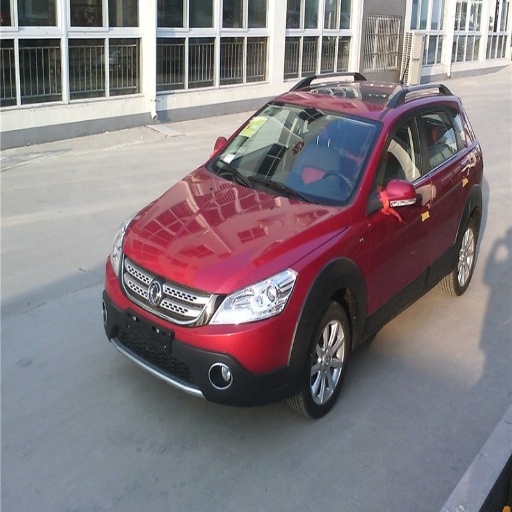front_bumper: (106, 268, 300, 403)
front_glass: (205, 98, 380, 205)
front_left_door: (368, 104, 433, 315)
